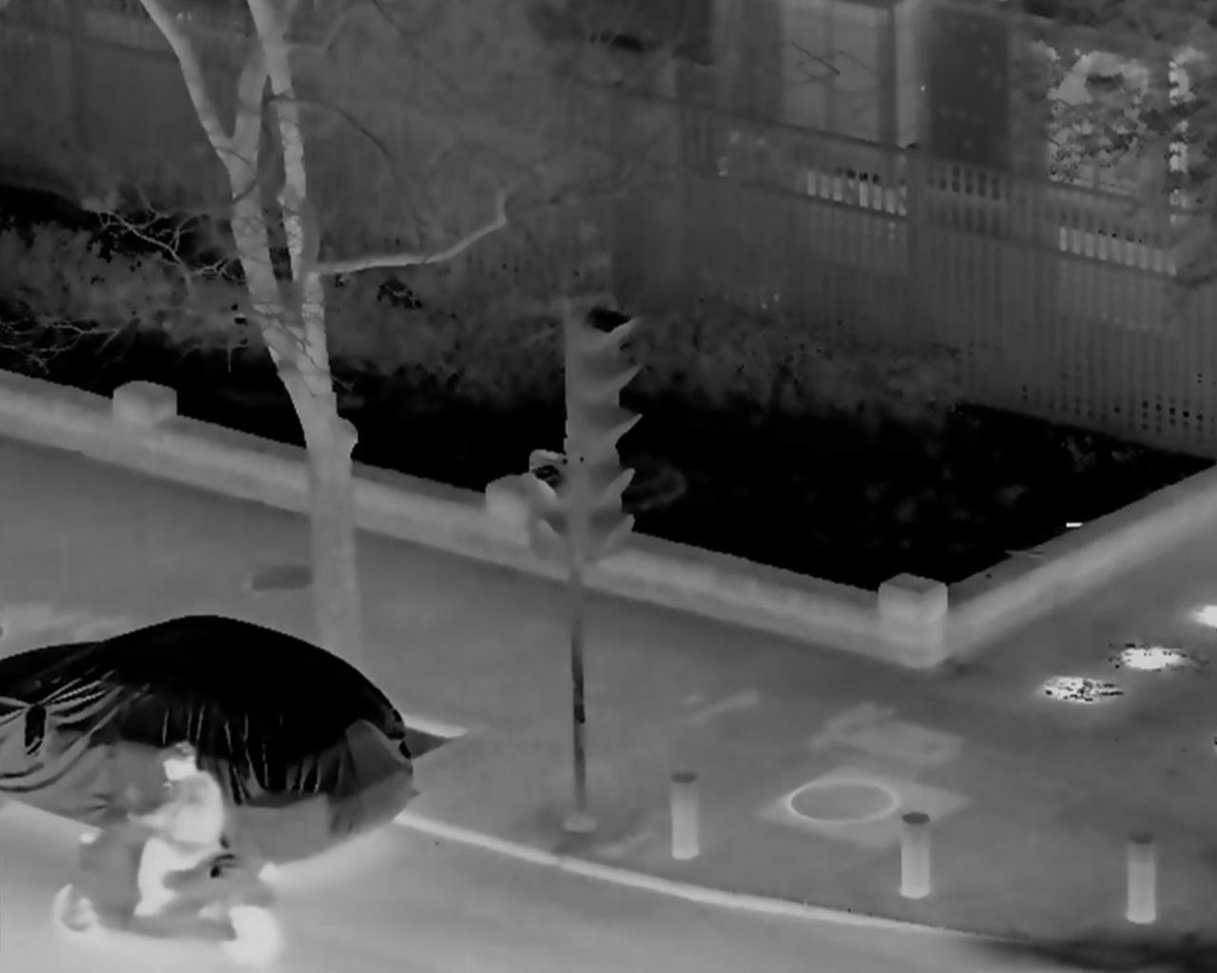person: (120, 739, 228, 916)
